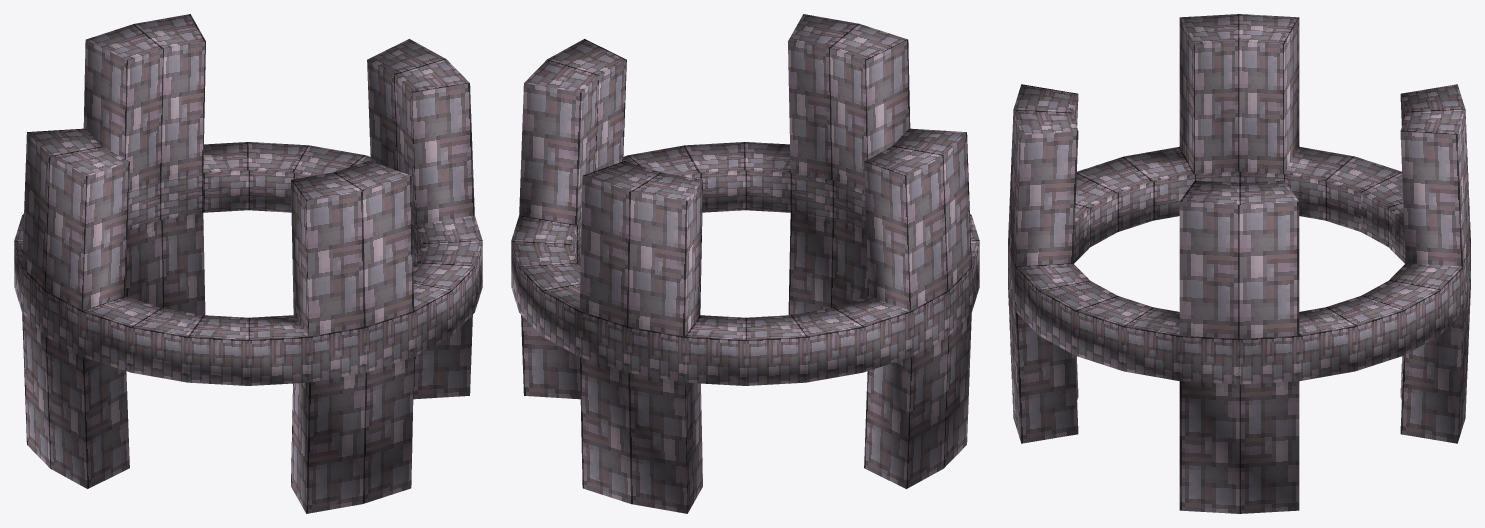
Rendered from ringmiddle.glb.
The picture shows the model from 3 angles, left to right: view 1: azimuth 30°, elevation 25°; view 2: azimuth 150°, elevation 25°; view 3: azimuth 270°, elevation 25°; orthographic projection.
Parts seen in each view (by area): view 1: ring.001; view 2: ring.001; view 3: ring.001.
Part boxes in pixels (left/top/right/bottom): ring.001: left=14, top=14, right=482, bottom=513; ring.001: left=511, top=14, right=979, bottom=513; ring.001: left=1008, top=14, right=1470, bottom=513.
Size of the model in its own units: 41.74 by 30.73 by 41.74.
1 material, 1 textured.
